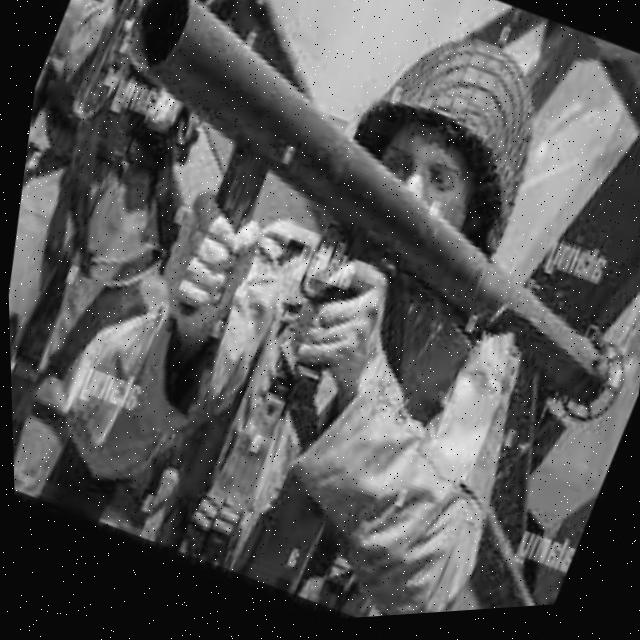rocket: (25, 0, 640, 469)
